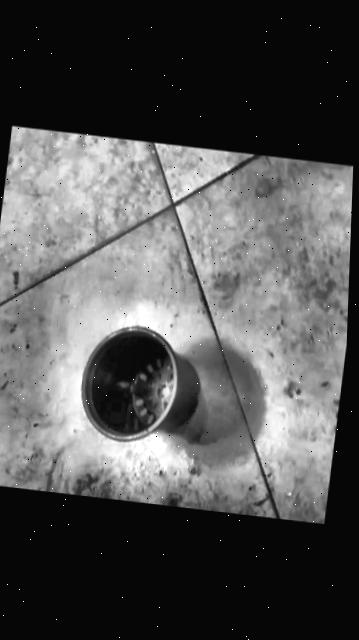pot: (73, 322, 204, 450)
